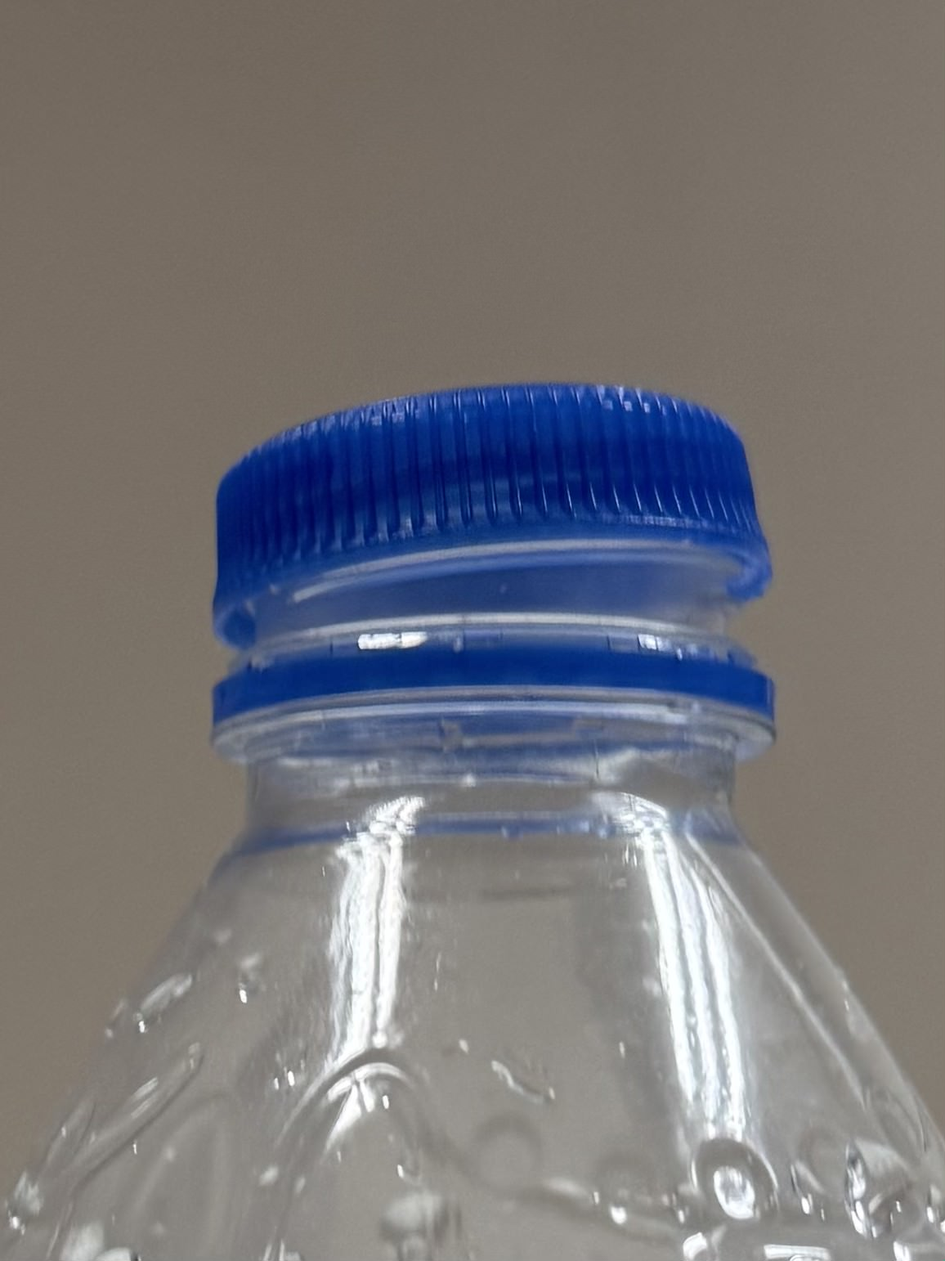half_cap: (194, 367, 790, 762)
